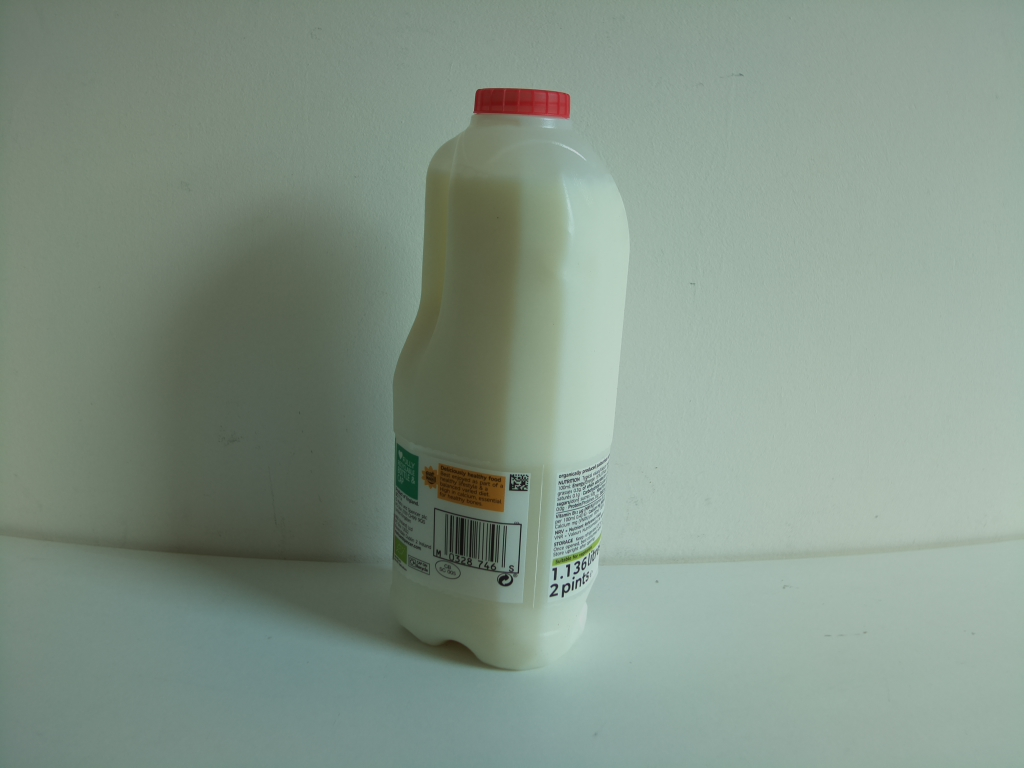milk: (387, 84, 631, 675)
